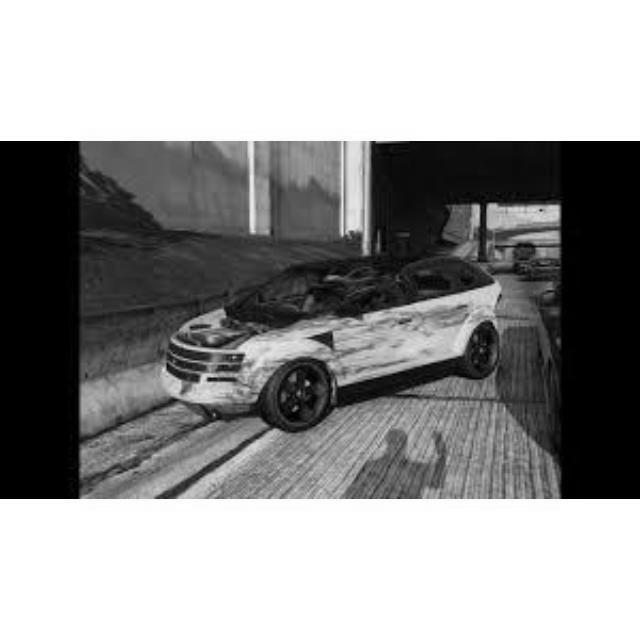Front-windscreen-damage: (248, 276, 356, 312)
bonnet-dent: (186, 304, 275, 355)
doorouter-dent: (338, 319, 421, 378), (423, 297, 476, 363)
front-bumper-dent: (158, 371, 256, 405)
roof-dent: (314, 253, 435, 285)
